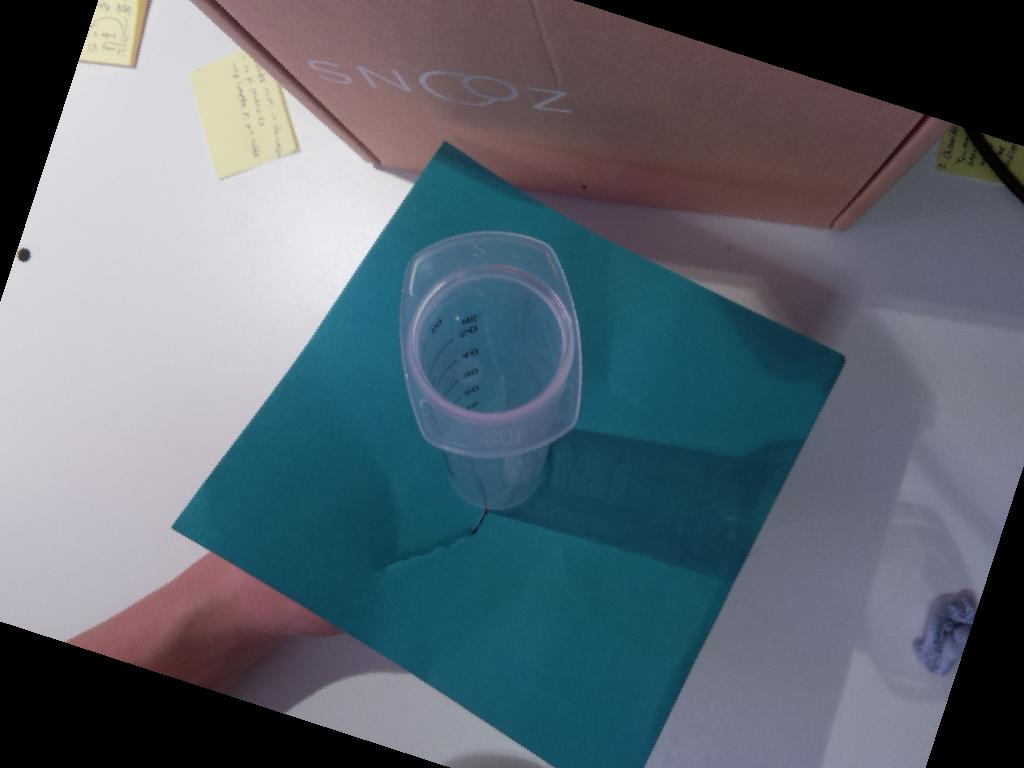clean: (395, 227, 584, 461)
